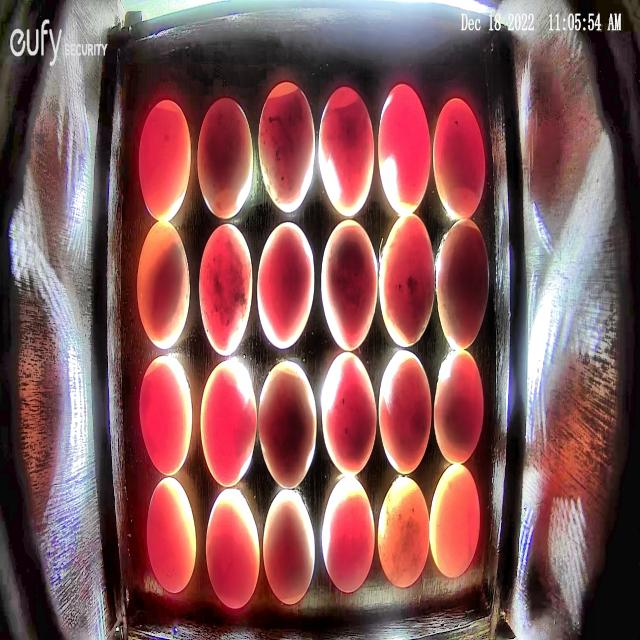DE: (263, 486, 316, 606), (322, 477, 374, 592), (378, 475, 430, 587), (429, 464, 479, 578)
FE: (258, 358, 318, 488), (320, 218, 378, 352), (256, 220, 315, 350), (259, 80, 316, 213), (378, 214, 435, 347), (200, 358, 258, 487), (318, 85, 374, 217), (135, 218, 190, 351), (198, 222, 253, 354), (320, 351, 377, 476), (378, 83, 431, 215), (378, 349, 433, 475), (197, 97, 253, 219), (437, 220, 489, 351), (205, 487, 261, 608), (432, 96, 486, 220), (138, 99, 192, 222), (139, 354, 193, 476), (146, 476, 196, 592), (434, 350, 484, 465)
